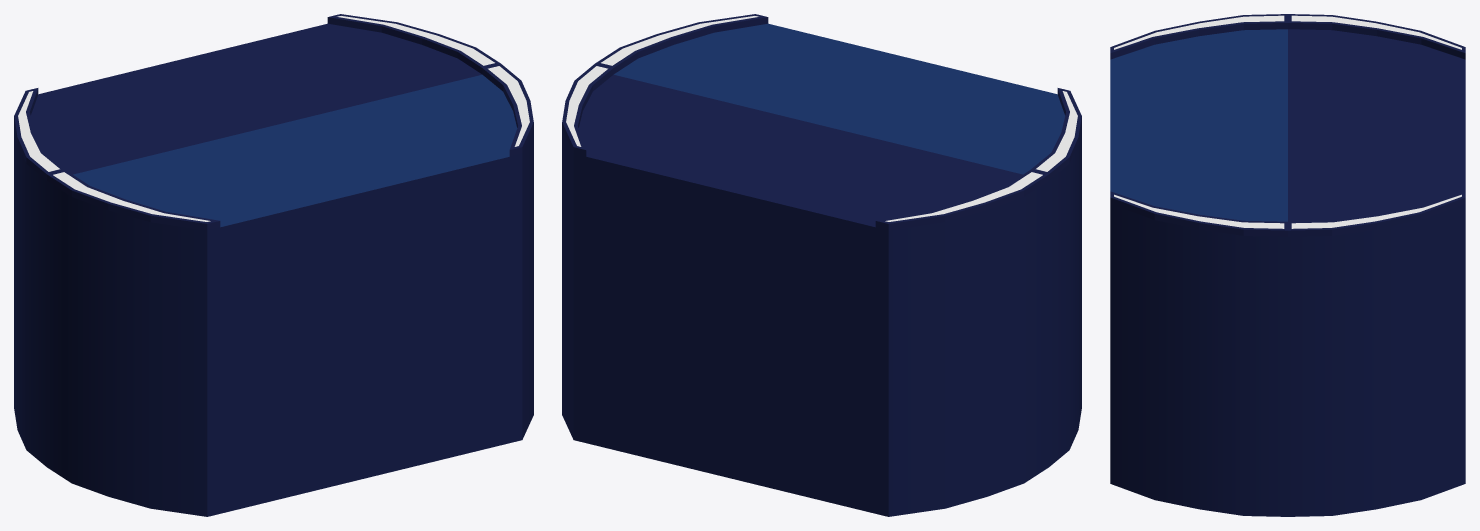
Rendered from B_Road_4.FBX.
3 views of the same model, side by side, from view 1: azimuth 30°, elevation 25°; view 2: azimuth 150°, elevation 25°; view 3: azimuth 270°, elevation 25° (orthographic). The views are drawn at different scales.
Visible parts, largest first — view 1: Road_013; view 2: Road_013; view 3: Road_013.
Boxes of the visible parts, x1,y1,x2,y2 form: Road_013: (14,14,533,516); Road_013: (562,14,1081,516); Road_013: (1110,14,1465,516).
Size of the model in its own units: 725 by 447 by 503.
